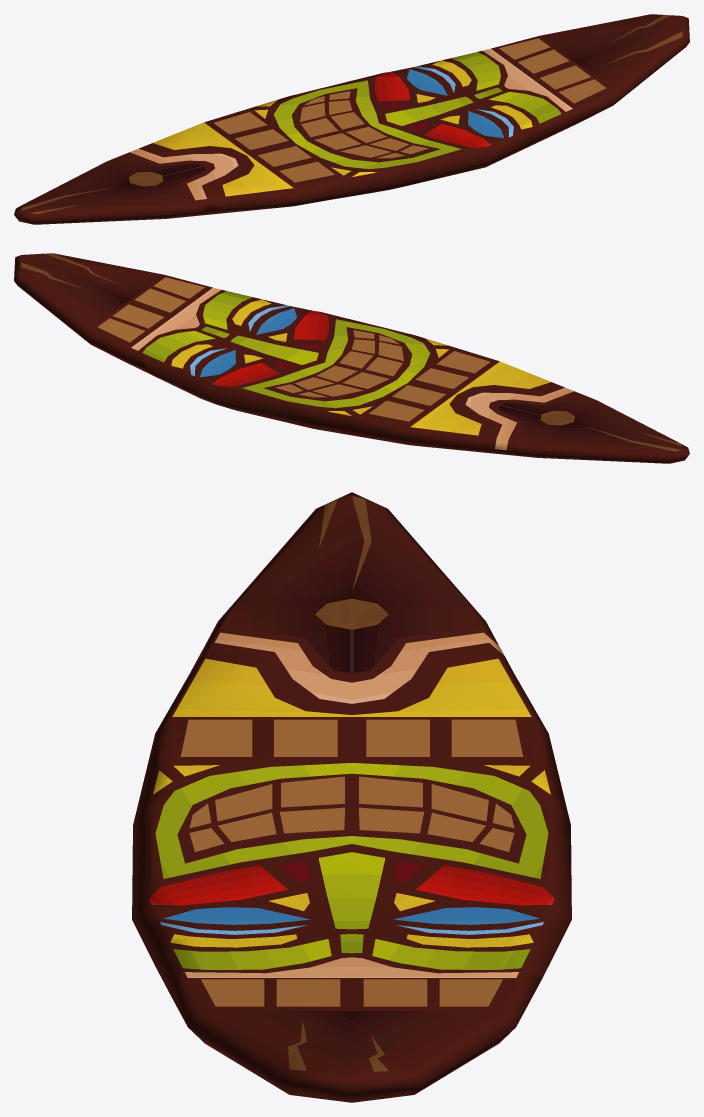
The model's file is tiki.glb.
3 renders of one model, top to bottom at view 1: azimuth 30°, elevation 25°; view 2: azimuth 150°, elevation 25°; view 3: azimuth 270°, elevation 25°, orthographic. The views are drawn at different scales.
Parts seen in each view (by area): view 1: tiki; view 2: tiki; view 3: tiki.
Part boxes in pixels (box(x1,y1,x2,y2)): tiki: box(14, 14, 689, 224); tiki: box(14, 253, 689, 463); tiki: box(132, 492, 571, 1102).
Bounding box in the file's own units: 15.08 × 1.19 × 4.26.
1 material, 1 textured.
